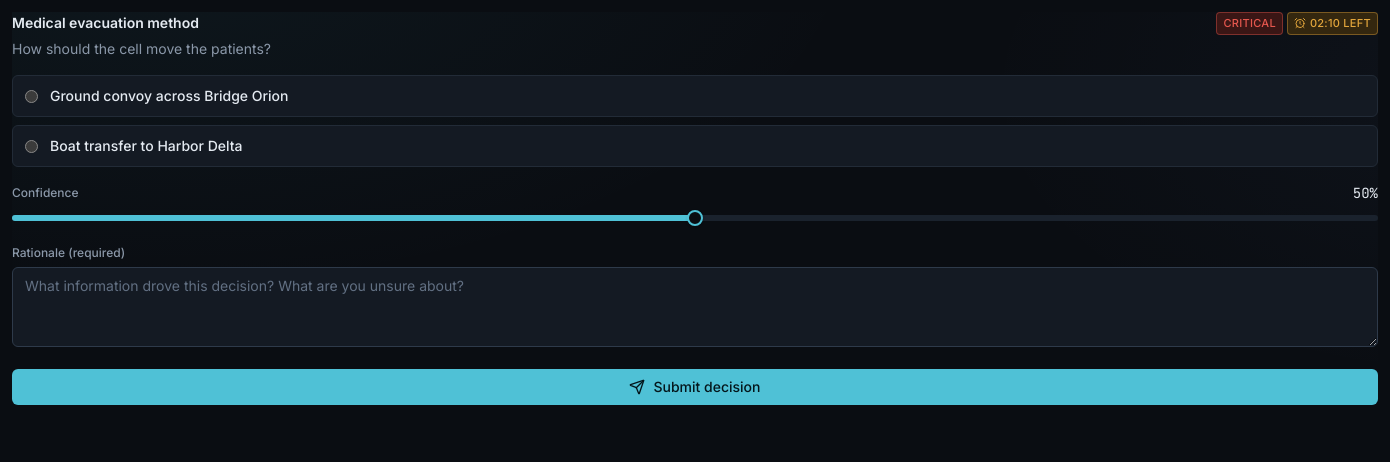
Test: DecisionForm › requires an option and a rationale
Click the button "Submit decision" at x=695, y=386, box x1=12 y1=368 x2=1378 y2=404
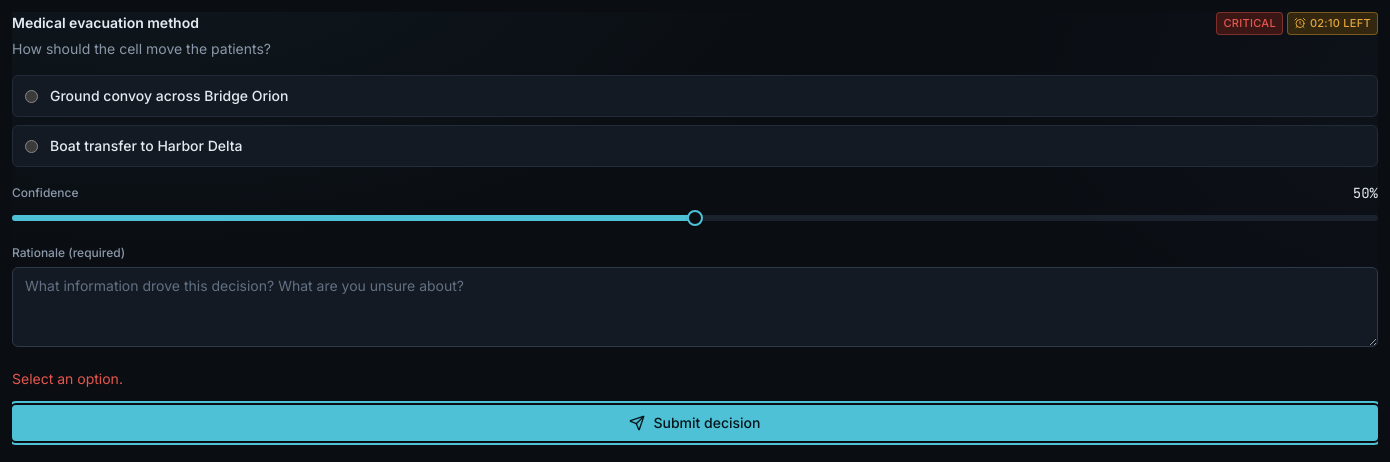
expect the message reads "Select an option.": met, box x1=12 y1=370 x2=123 y2=386
Click the radio button labelled "Boat transfer to Harbor Delta" at x=32, y=146, box x1=25 y1=140 x2=38 y2=152
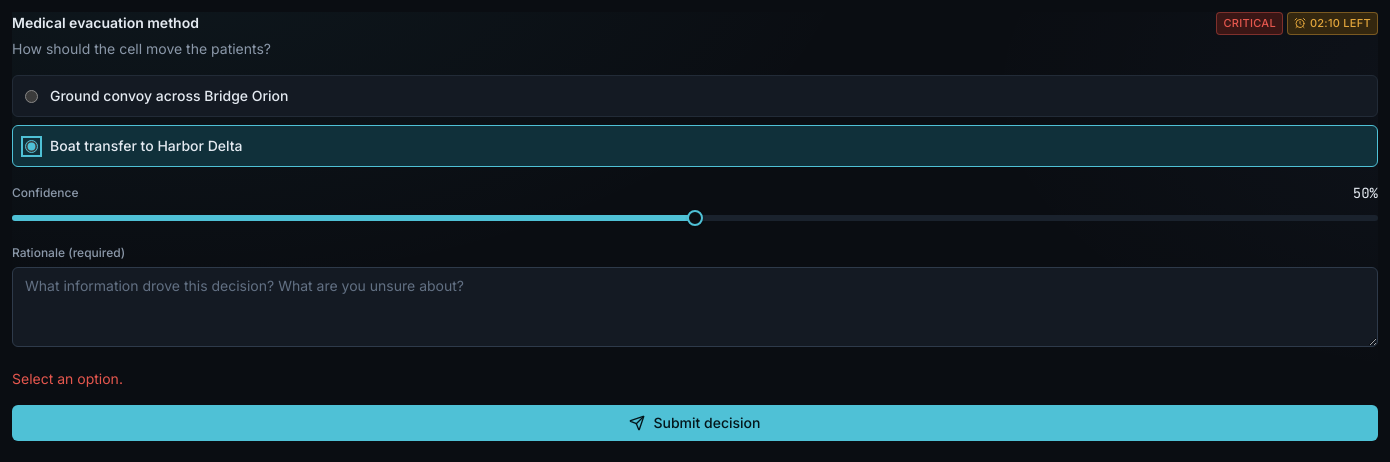
Click the button "Submit decision" at x=695, y=422, box x1=12 y1=404 x2=1378 y2=440
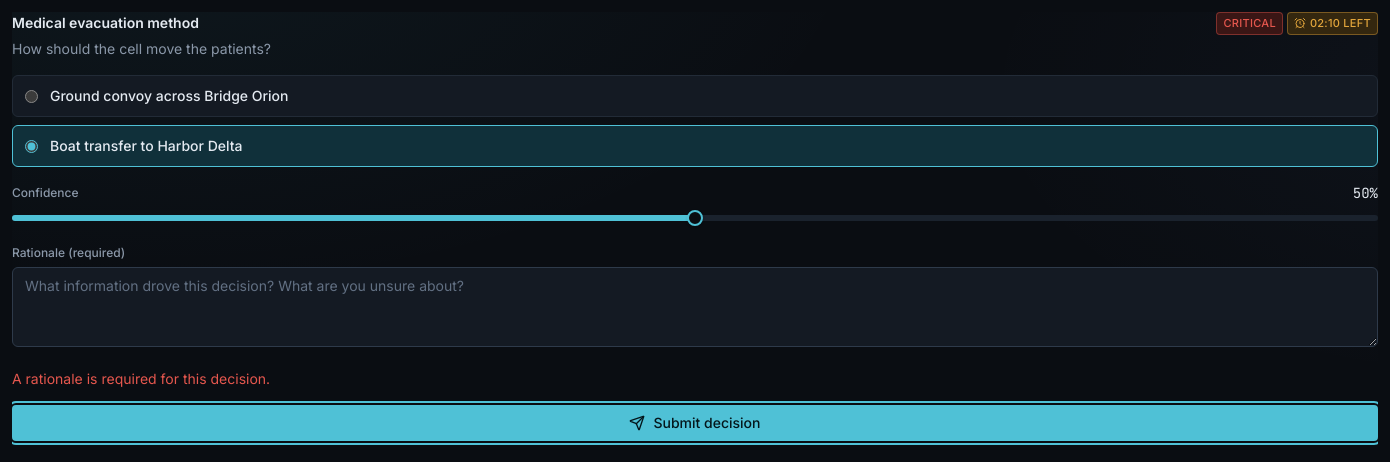
expect the message shows "rationale is required": met, box x1=12 y1=370 x2=270 y2=386
